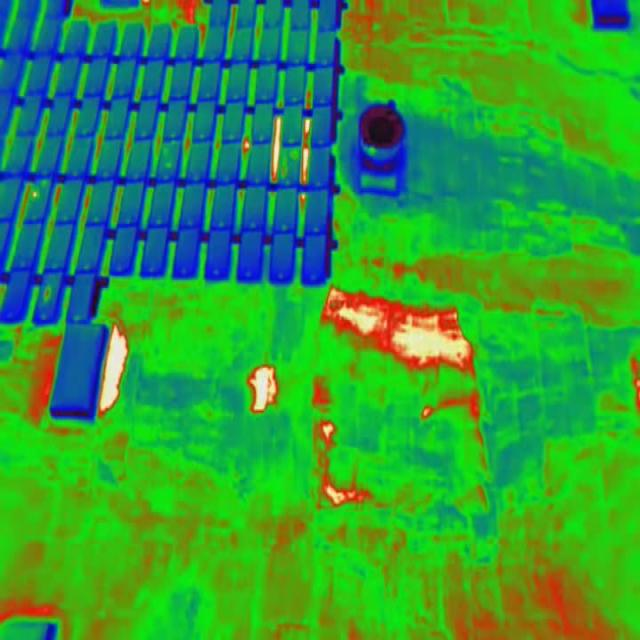Orange-Spots: (281, 158, 287, 177), (44, 285, 50, 301), (32, 189, 39, 199), (291, 149, 298, 158), (42, 180, 46, 187)
